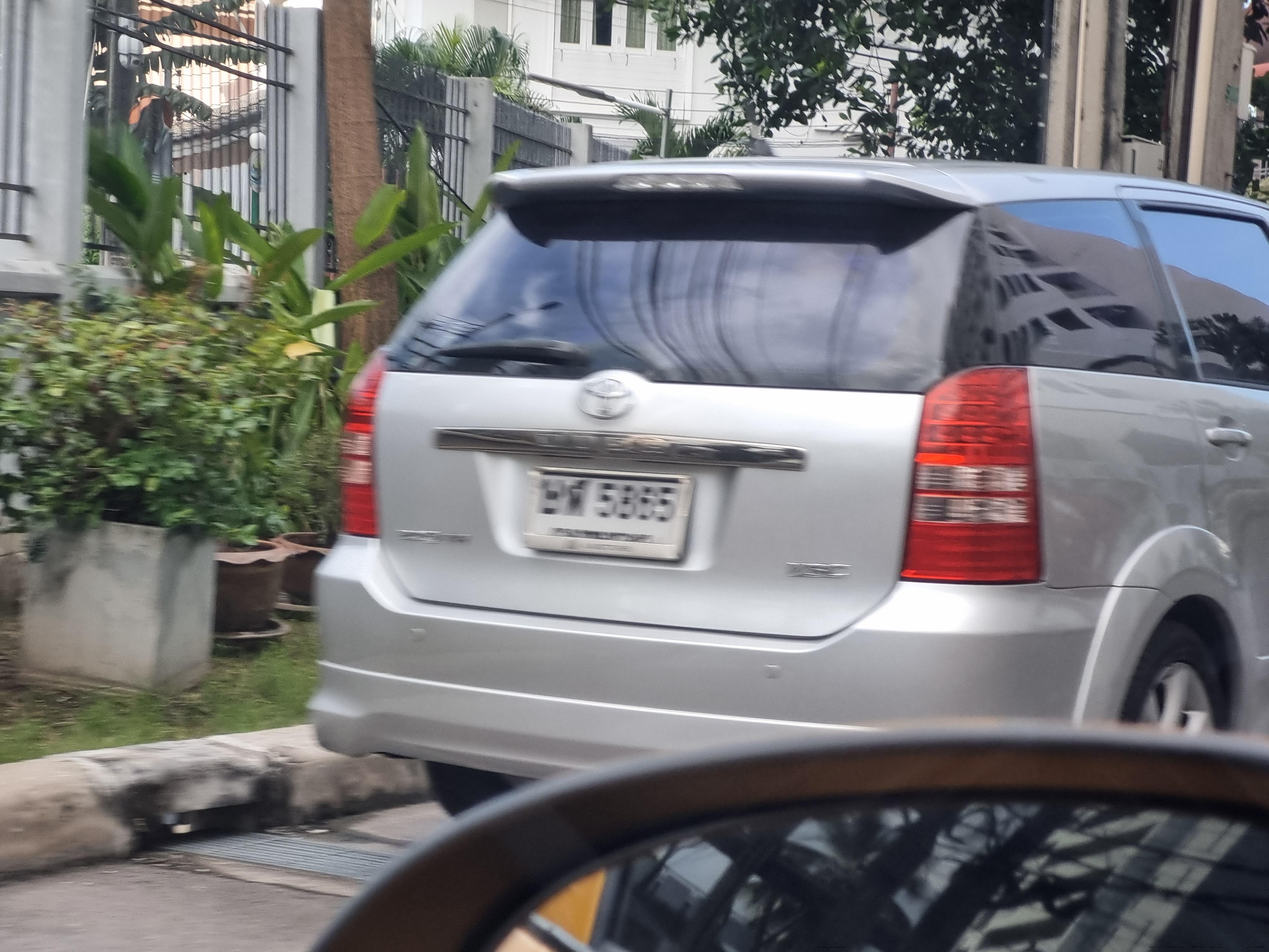license-plate: (522, 452, 697, 573)
